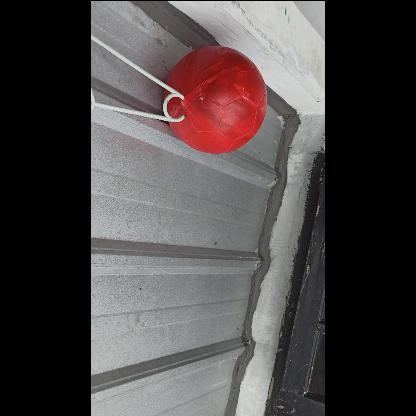red_ball: (162, 46, 268, 152)
